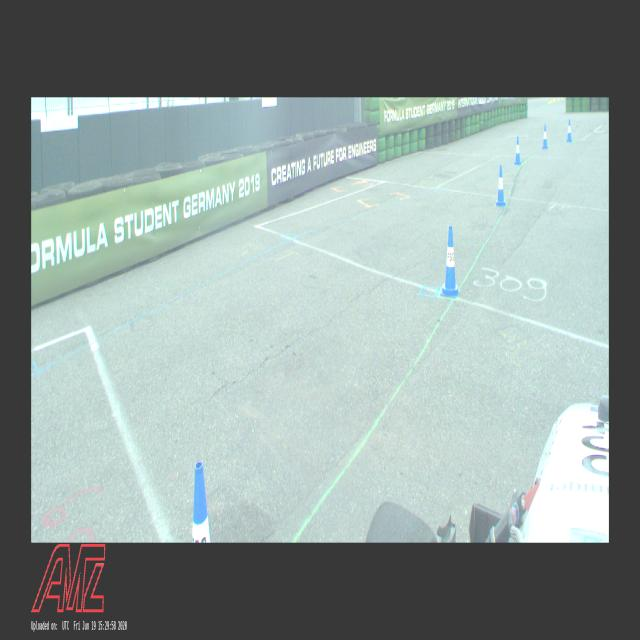blue_cone: (440, 225, 460, 298), (192, 462, 210, 542), (496, 166, 506, 207), (514, 136, 521, 164), (542, 125, 548, 148), (566, 120, 572, 142)
